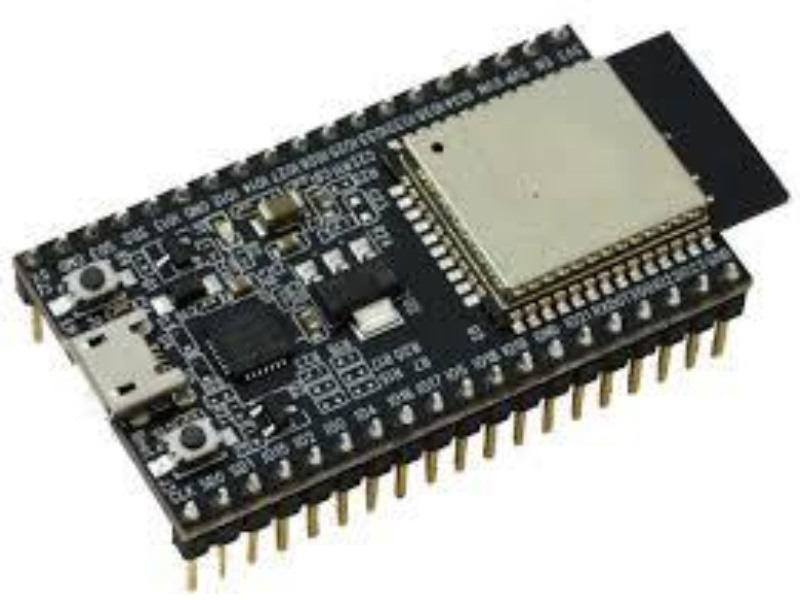esp32: (14, 34, 798, 513)
